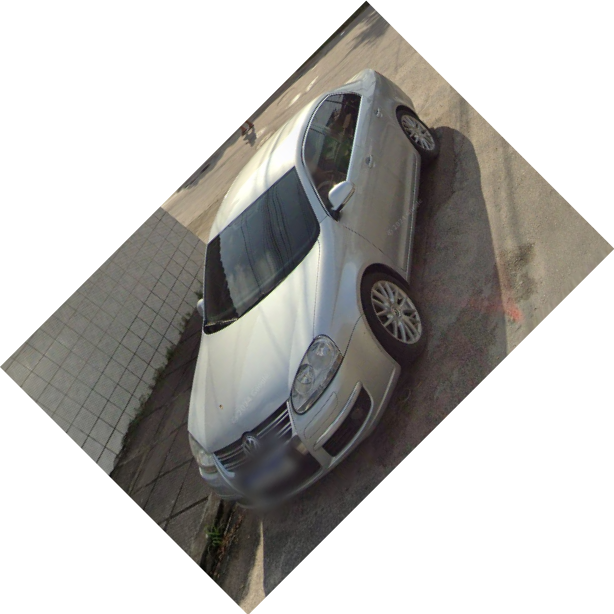car: (186, 70, 429, 501)
